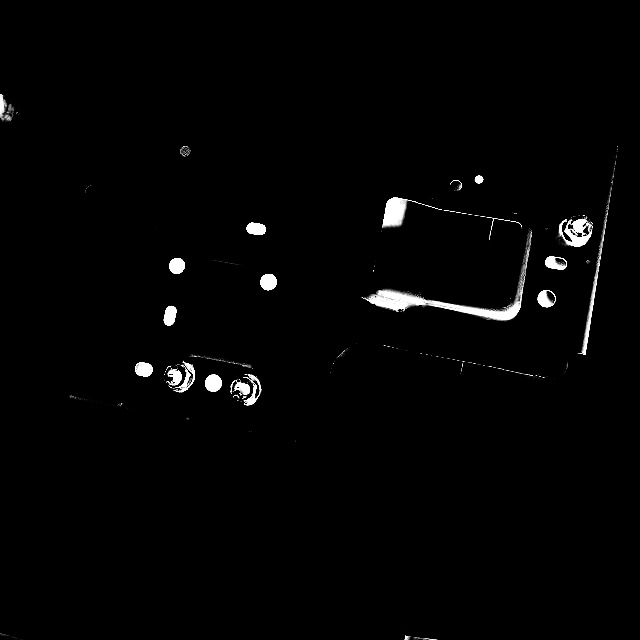dog: (558, 212, 594, 249), (228, 372, 264, 409), (161, 358, 197, 395)
